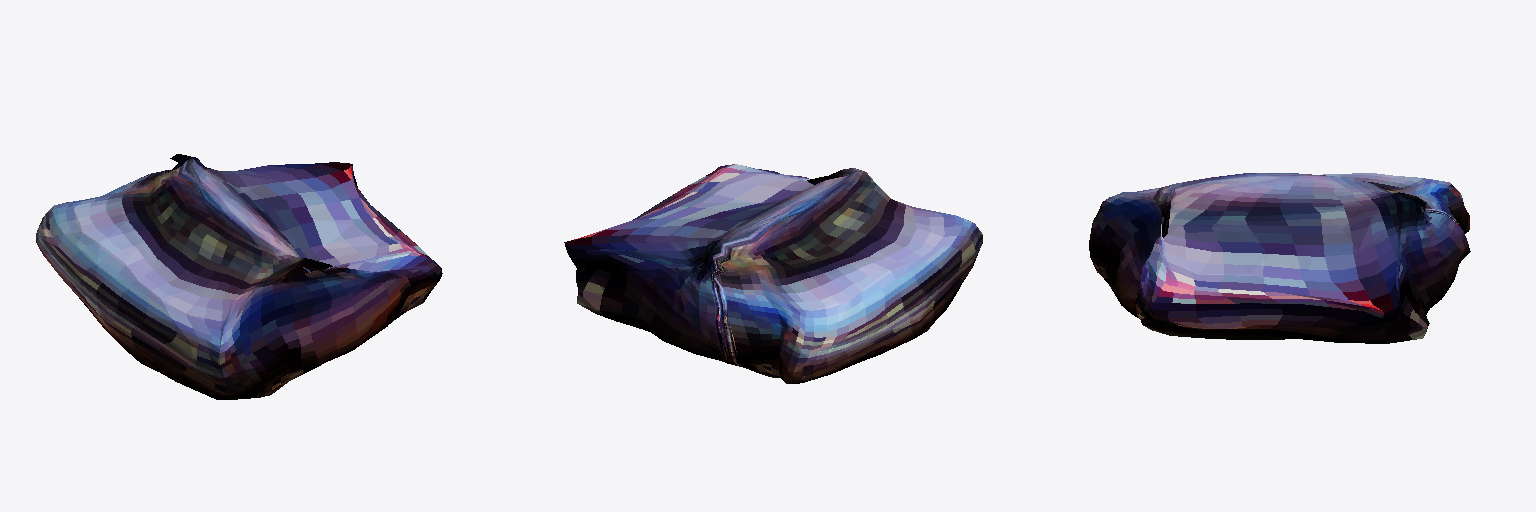
3 views of the same model, side by side, from view 1: azimuth 30°, elevation 25°; view 2: azimuth 150°, elevation 25°; view 3: azimuth 270°, elevation 25° (orthographic).
Bounding box in the file's own units: 0.9096 × 0.3782 × 1.
1 materials, 1 textured.